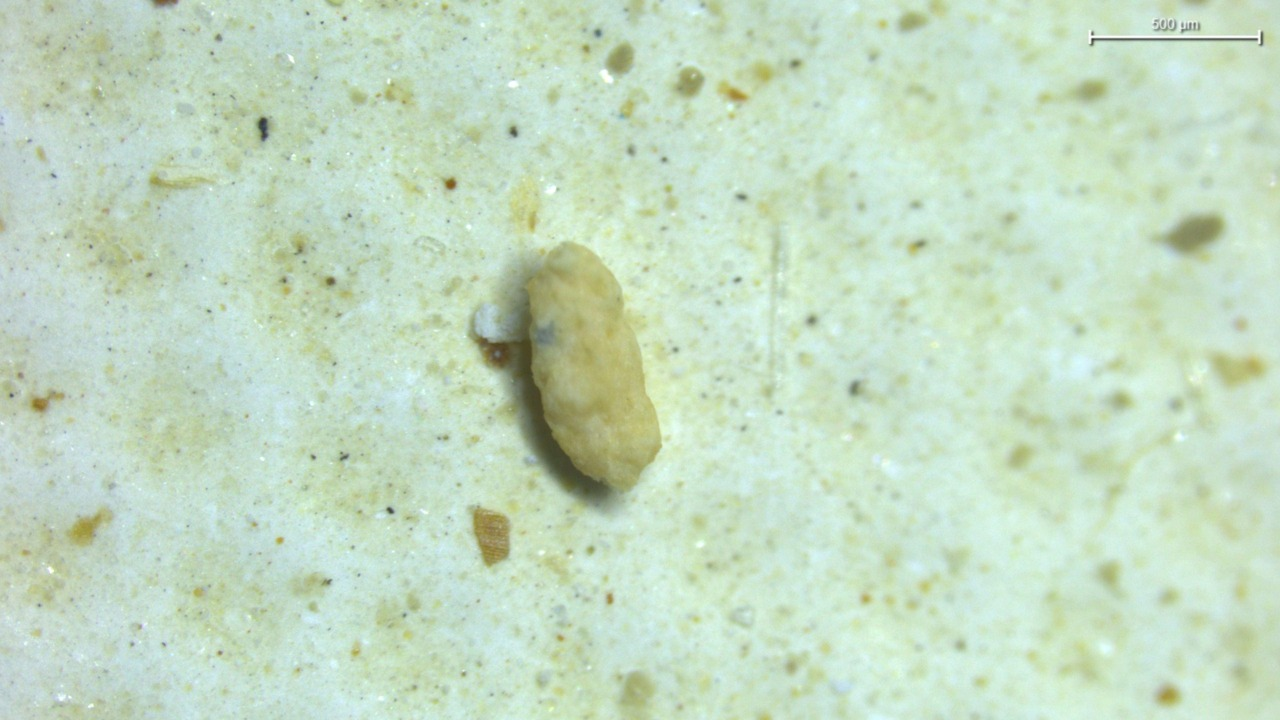microplastic_fragment: (527, 242, 662, 490)
